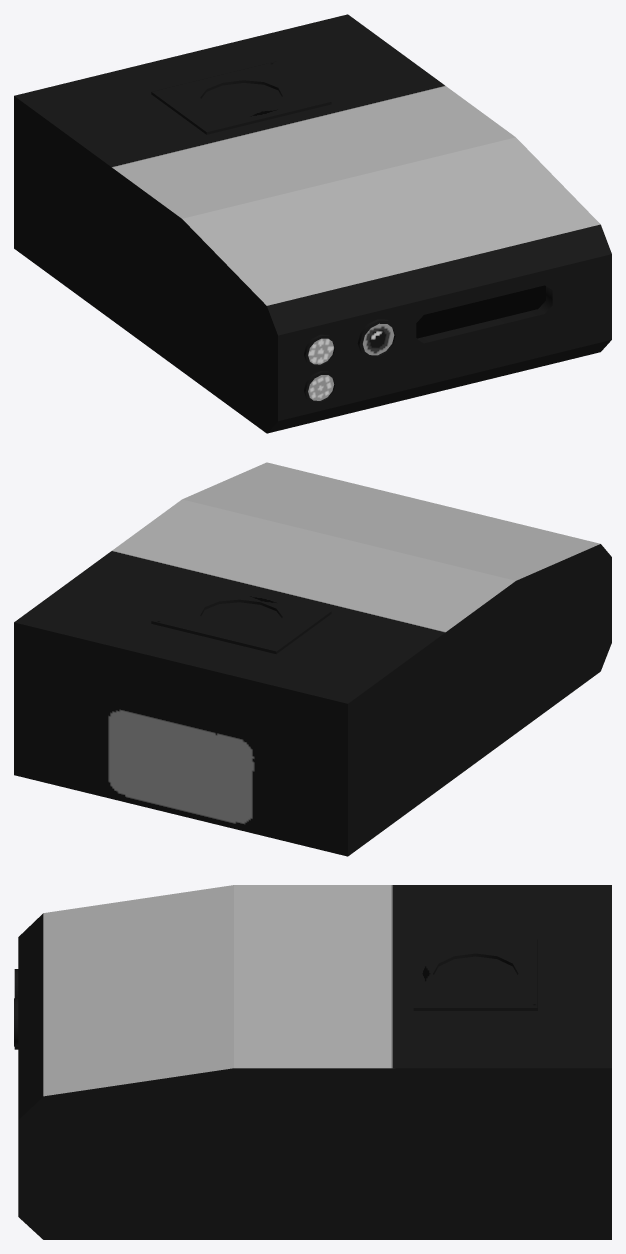
Rendered from jaguar_body.fbx.
3 views of the same model, one above another, from view 1: azimuth 30°, elevation 25°; view 2: azimuth 150°, elevation 25°; view 3: azimuth 270°, elevation 25° (orthographic). The views are drawn at different scales.
Parts seen in each view (by area): view 1: Plane; view 2: Plane; view 3: Plane.
Boxes of the visible parts, x1=… form: Plane: x1=14, y1=14, x2=611, y2=433; Plane: x1=14, y1=462, x2=611, y2=856; Plane: x1=14, y1=885, x2=611, y2=1239.
Bounding box in the file's own units: 36.83 × 16.37 × 50.8.
